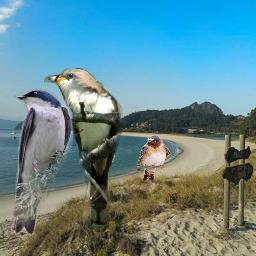Cuckoo: (44, 68, 123, 232)
Swallow: (9, 88, 73, 236), (137, 135, 170, 181)
